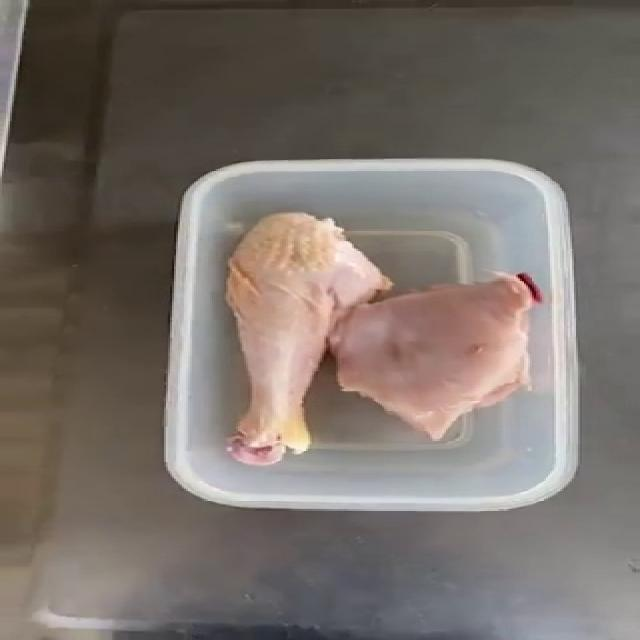chicken: (210, 204, 536, 470)
